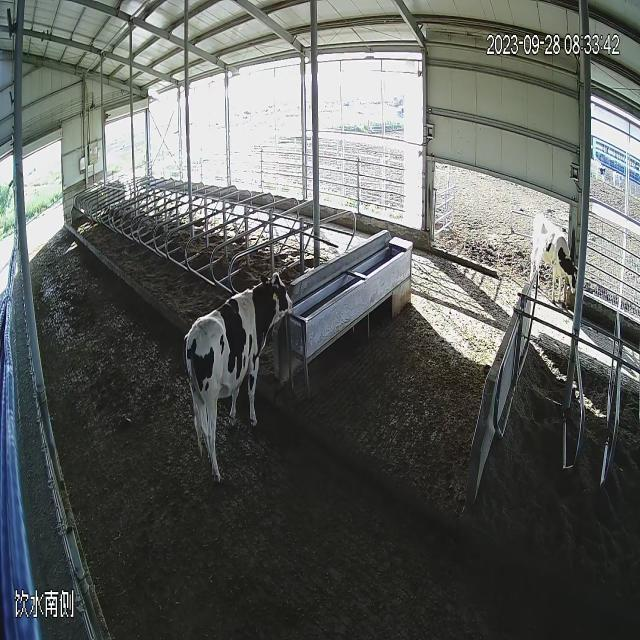standing: (182, 262, 310, 504), (520, 197, 586, 306)
